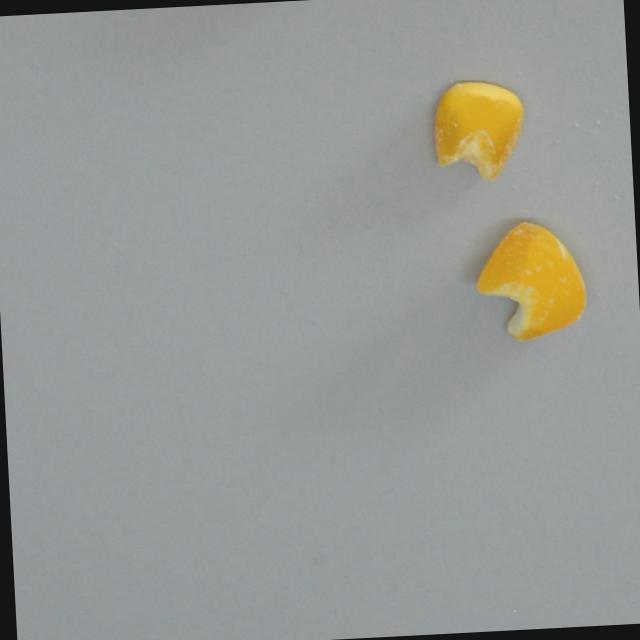pelicula: (472, 219, 588, 344), (431, 79, 528, 184)
